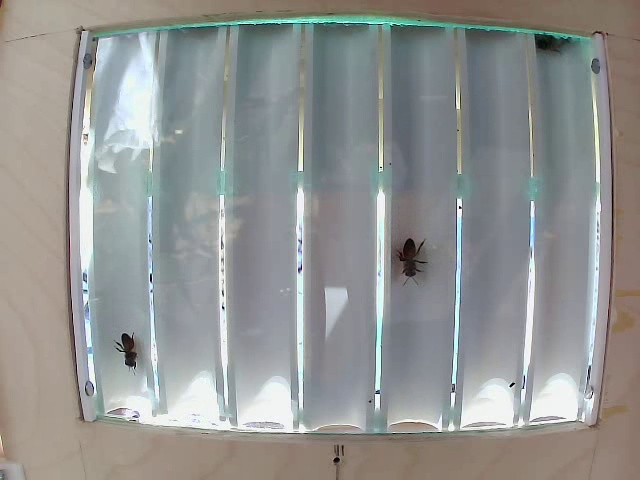bee: (112, 325, 151, 378), (396, 229, 433, 281)
